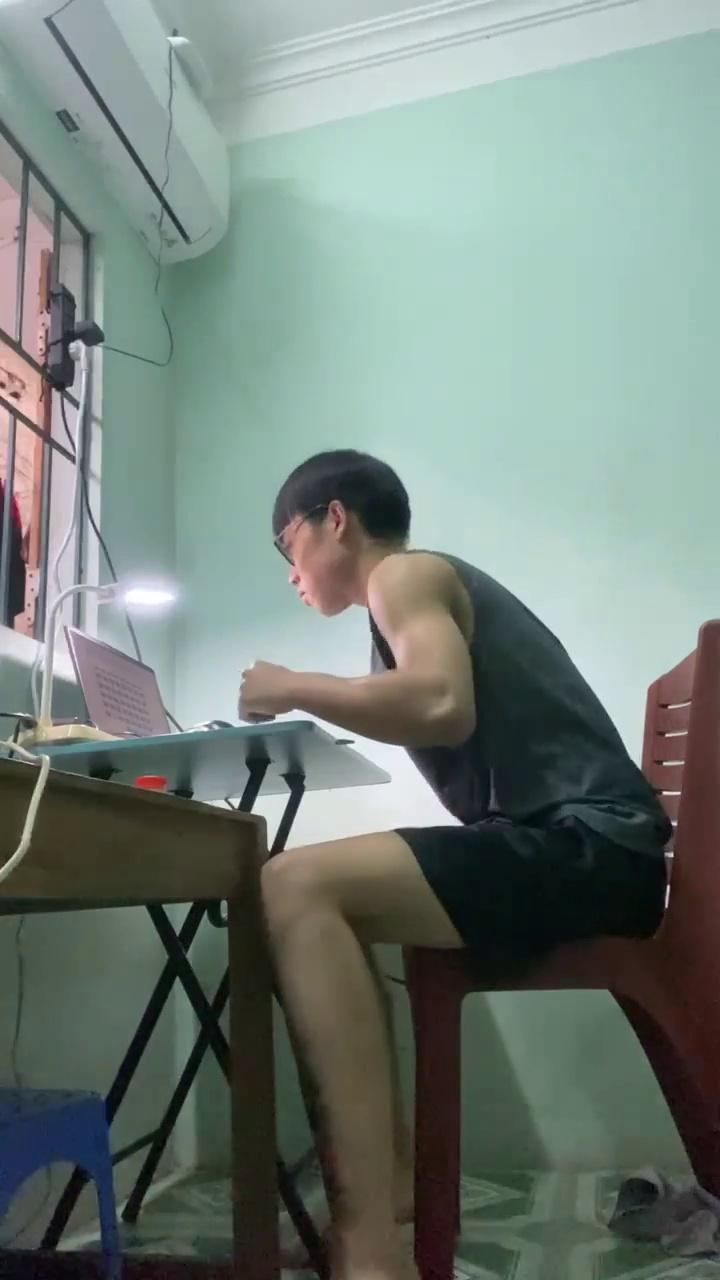BadPosture: (238, 447, 668, 1279)
